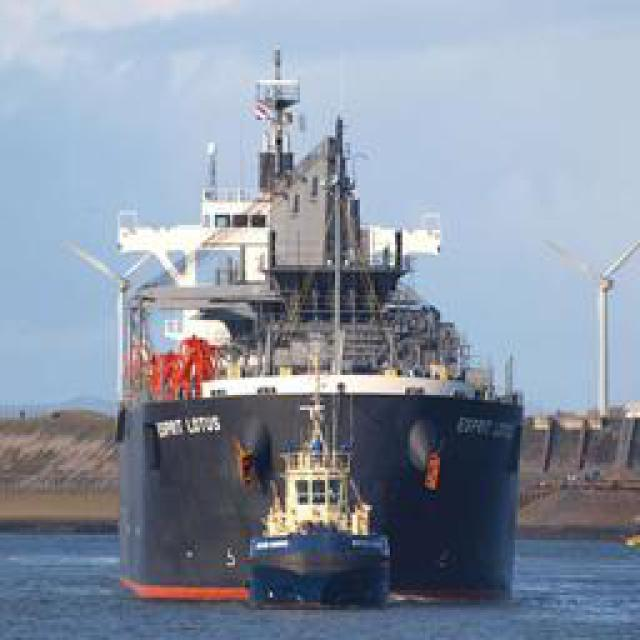Ship: (105, 29, 540, 604)
